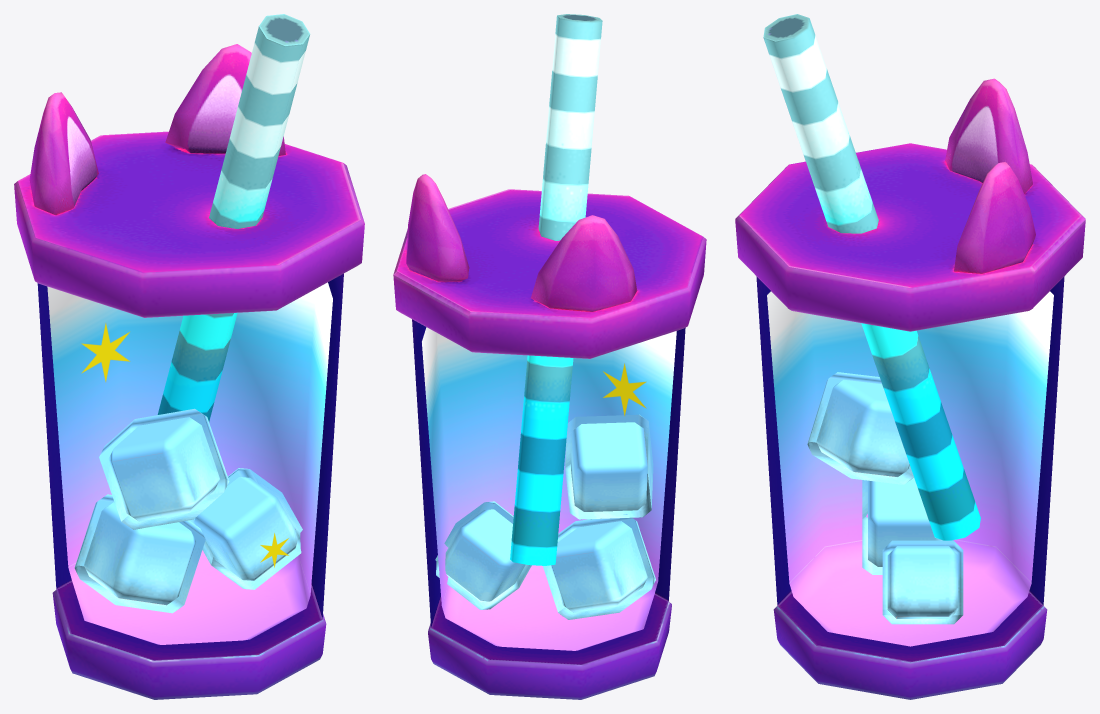
Rendered from Smoothie.glb.
The picture shows the model from 3 angles, left to right: view 1: azimuth 30°, elevation 25°; view 2: azimuth 150°, elevation 25°; view 3: azimuth 270°, elevation 25°; orthographic projection. The views are drawn at different scales.
Parts seen in each view (by area): view 1: Smoothy; view 2: Smoothy; view 3: Smoothy.
Boxes of the visible parts, x1=… form: Smoothy: x1=14, y1=14, x2=364, y2=699; Smoothy: x1=393, y1=14, x2=706, y2=699; Smoothy: x1=735, y1=14, x2=1085, y2=699.
Bounding box in the file's own units: 0.3283 × 0.6616 × 0.3283.
Materials: 3 (3 with a texture image).
